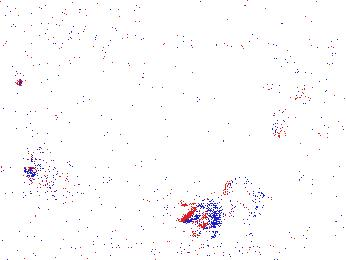flame jellyfish: (181, 175, 267, 230), (262, 60, 307, 137), (20, 151, 81, 205)
